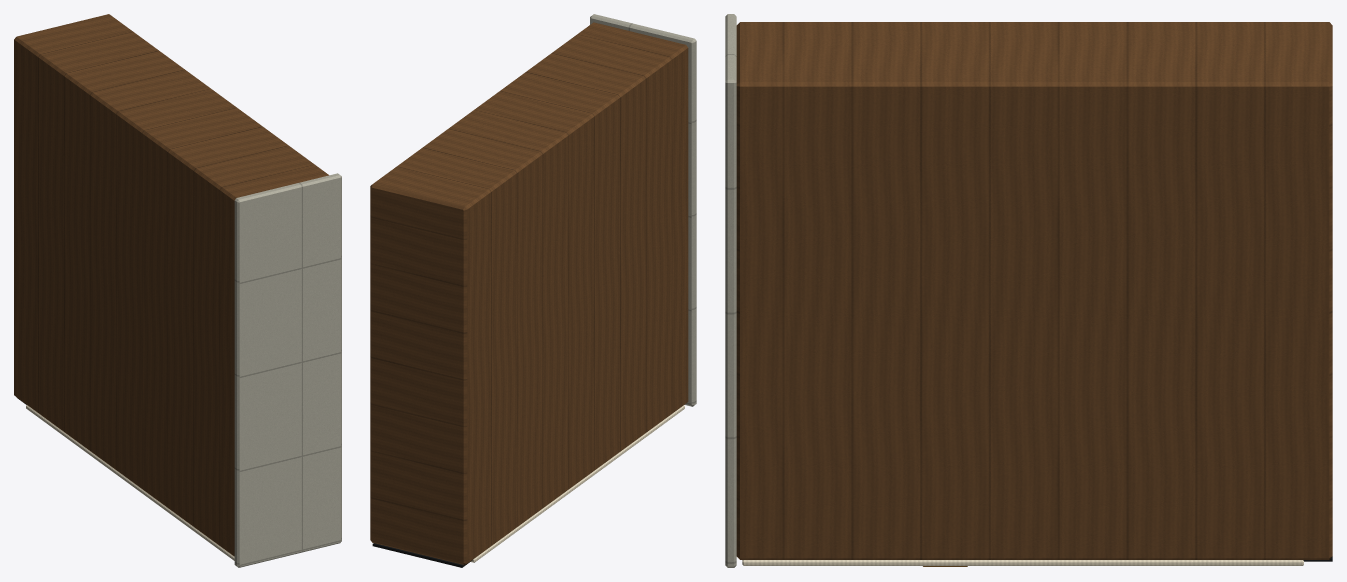
The model's file is ground_wardrobe.obj.
3 views of the same model, side by side, from view 1: azimuth 30°, elevation 25°; view 2: azimuth 150°, elevation 25°; view 3: azimuth 270°, elevation 25° (orthographic). The views are drawn at different scales.
Visible parts, largest first — view 1: ground_wardrobe_oak, ground_wardrobe_tile, ground_wardrobe_linen; view 2: ground_wardrobe_oak, ground_wardrobe_tile, ground_wardrobe_linen; view 3: ground_wardrobe_oak, ground_wardrobe_tile, ground_wardrobe_linen.
Part boxes in pixels (x1,y1,x2,y2): ground_wardrobe_oak: (14, 14, 328, 556); ground_wardrobe_tile: (234, 173, 341, 567); ground_wardrobe_linen: (26, 405, 234, 560); ground_wardrobe_oak: (370, 22, 688, 565); ground_wardrobe_tile: (590, 14, 696, 406); ground_wardrobe_linen: (471, 405, 684, 562); ground_wardrobe_oak: (736, 22, 1332, 559); ground_wardrobe_tile: (725, 14, 736, 567); ground_wardrobe_linen: (742, 560, 1303, 565).
Bounding box in the file's own units: 28 × 95.1 × 106.
Materials: 5 (5 with a texture image).
